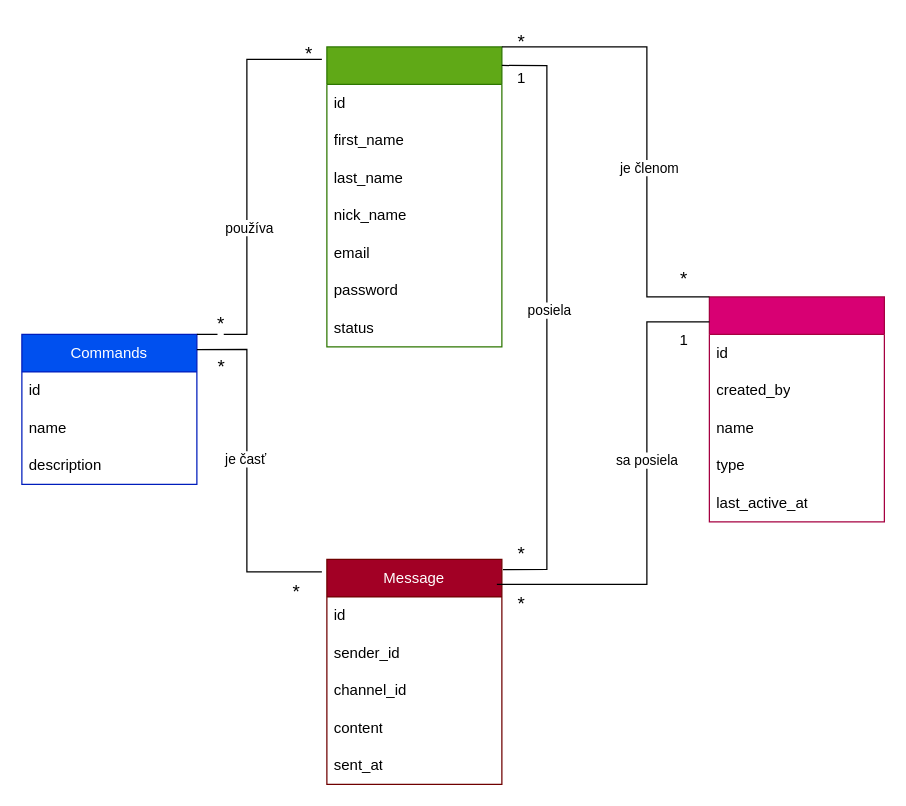
This 906x806 diagram has some shape labels left out. Each missing label, with the box of its shape:
Channel: (708, 296, 884, 522)
User: (326, 46, 502, 347)
